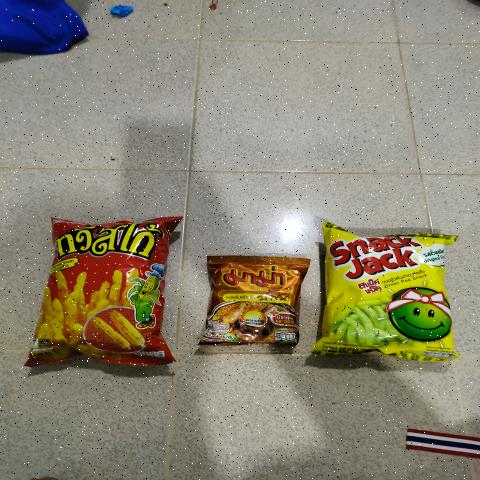mama: (213, 258, 297, 344)
snack_jack: (329, 231, 449, 366)
twisco: (62, 225, 151, 365)
